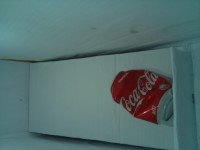kaleng: (111, 70, 174, 125)
